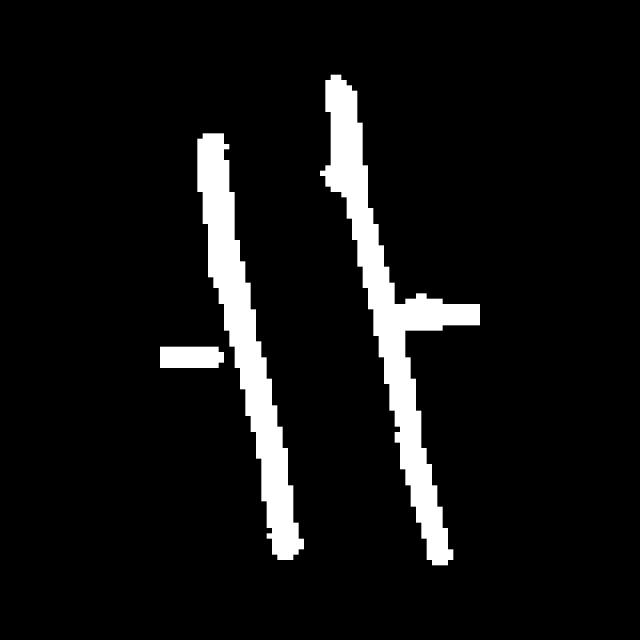capacitor: (193, 62, 457, 596)
